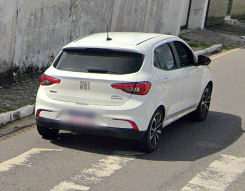car: (34, 30, 215, 149)
